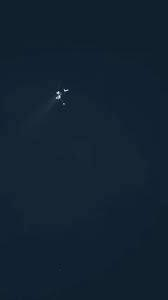Plane: (44, 77, 78, 116)
